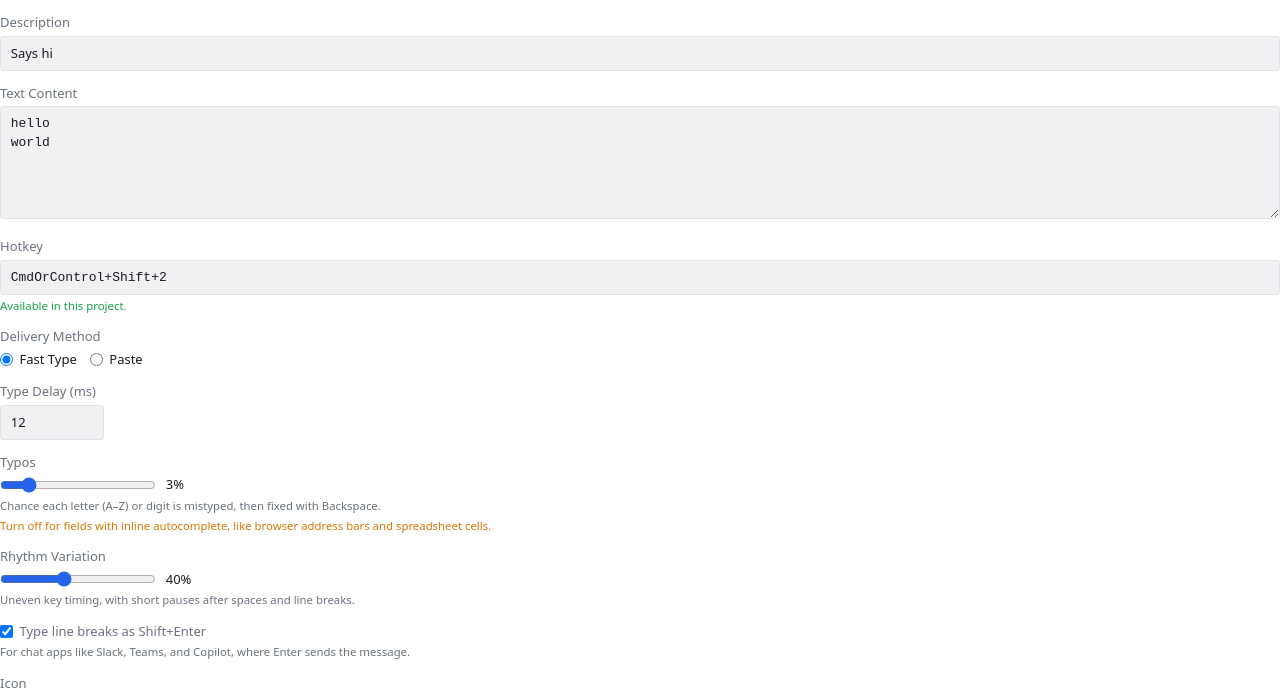
Test: TextSnippetForm › shows typo and rhythm sliders only for fast-type
(page scrolled)
expect the slider with test id "snippet-typo-chance" holds "3": met, box [0,477,156,493]
expect the text with test id "snippet-typo-chance-label" reads "3%": met, box [166,475,184,493]
Click the radio button with test id "delivery-paste".
click(96, 360)  # box [90,353,103,366]
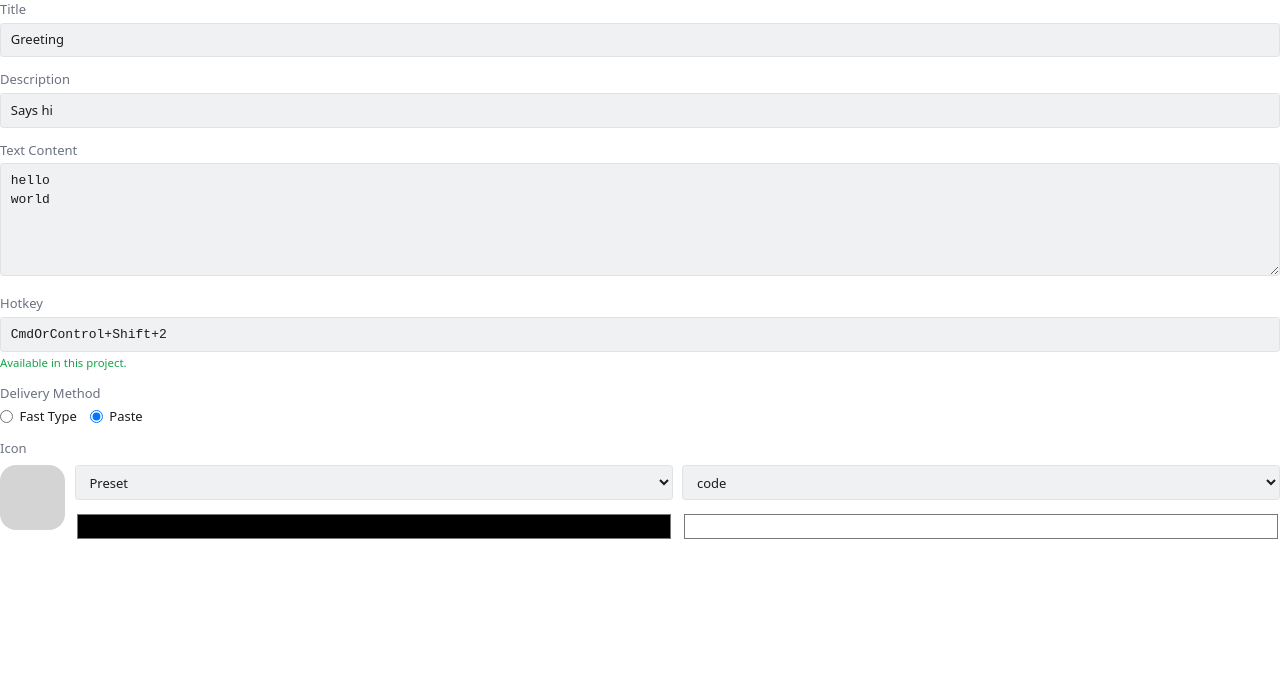
expect the label with test id "snippet-typo-chance" is gone: met
expect the label with test id "snippet-type-variation" is gone: met
